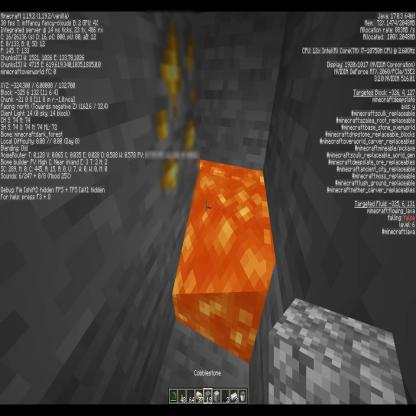gold ore: (145, 4, 200, 208)
